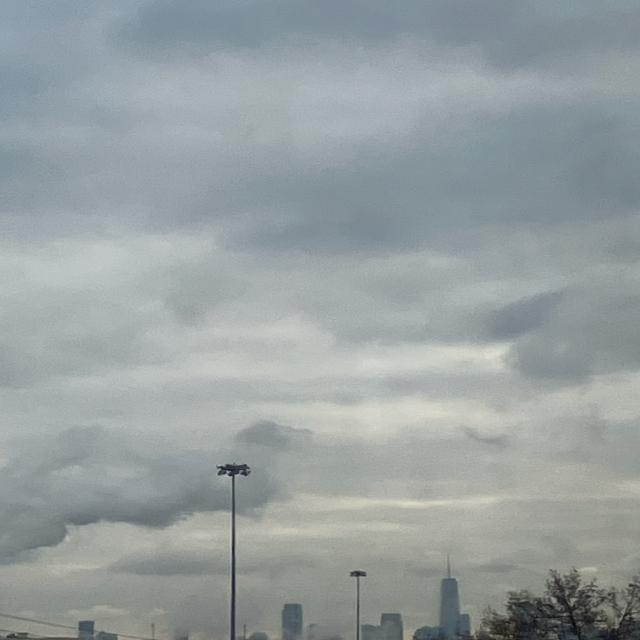WTC: (441, 552, 458, 636)
